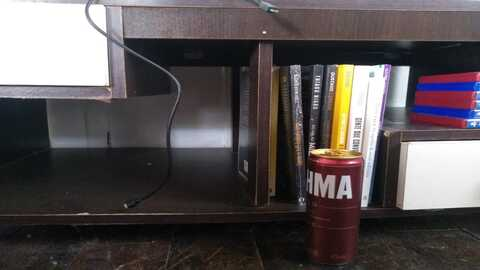duplo_malte: (306, 151, 366, 270)
